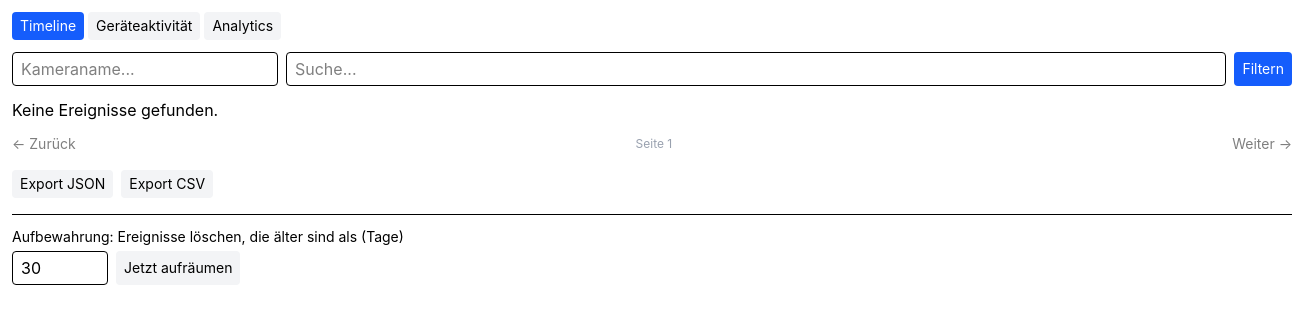
Test: EventPlatform › applies retention and shows the result
Click the button "Jetzt aufräumen" at {"x": 178, "y": 268}, box x1=116 y1=251 x2=240 y2=285
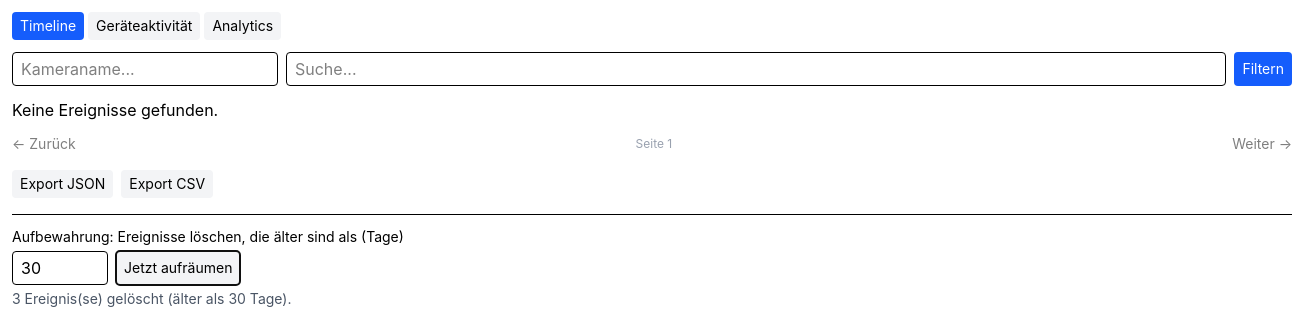
Now the text "3 Ereignis(se) gelöscht (älter als 30 Tage)." is shown, box x1=12 y1=290 x2=292 y2=307
